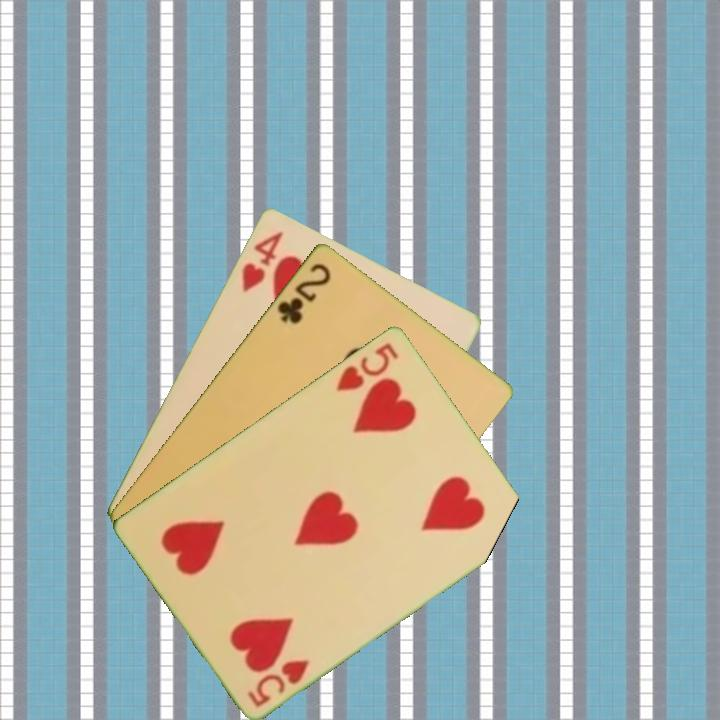2c: (273, 259, 334, 326)
4h: (238, 227, 286, 295)
5h: (332, 338, 402, 394), (244, 655, 313, 710)
